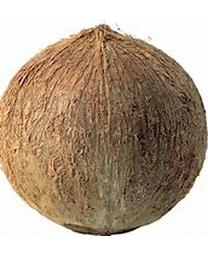coconut: (0, 25, 206, 236)
